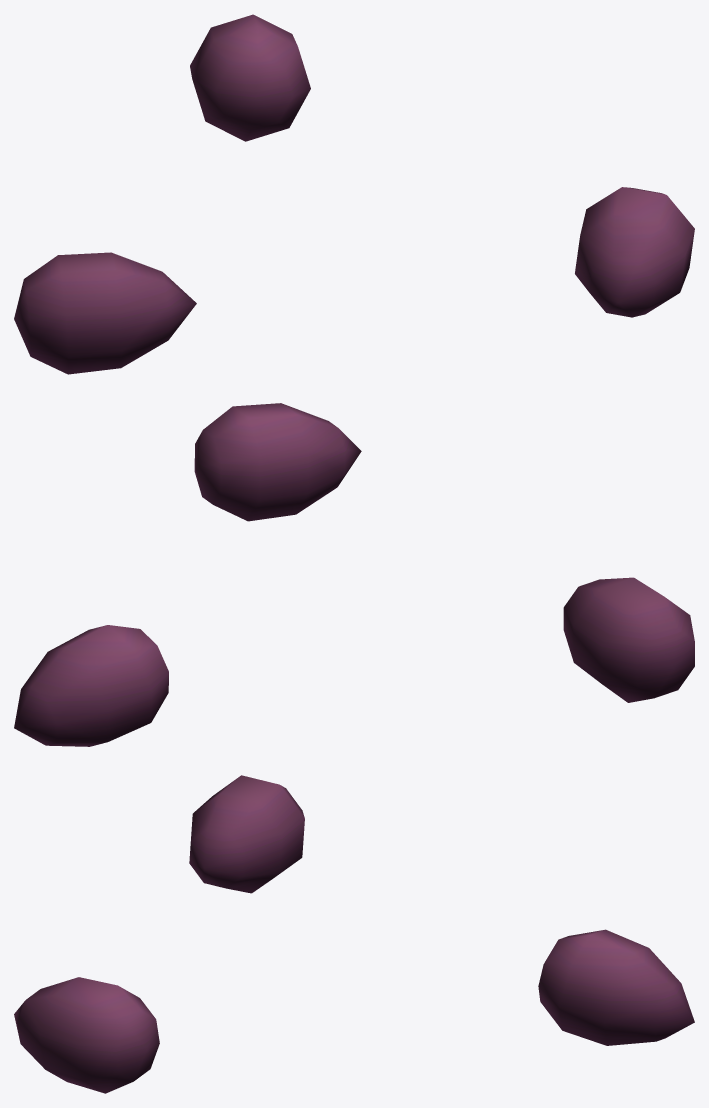
The model's file is blueberry_seed.glb.
The picture shows the model from 3 angles, top to bottom: view 1: azimuth 30°, elevation 25°; view 2: azimuth 150°, elevation 25°; view 3: azimuth 270°, elevation 25°; orthographic projection. The views are drawn at different scales.
Visible parts, largest first — view 1: SM_BlueBerry_Seed2; view 2: SM_BlueBerry_Seed2; view 3: SM_BlueBerry_Seed2.
Part boxes in pixels (bbox=[...]): SM_BlueBerry_Seed2: bbox=[14, 14, 694, 374]; SM_BlueBerry_Seed2: bbox=[14, 403, 694, 746]; SM_BlueBerry_Seed2: bbox=[14, 775, 694, 1093].
Bounding box in the file's own units: 0.2148 × 0.0411 × 0.2347.
1 material, 1 textured.
